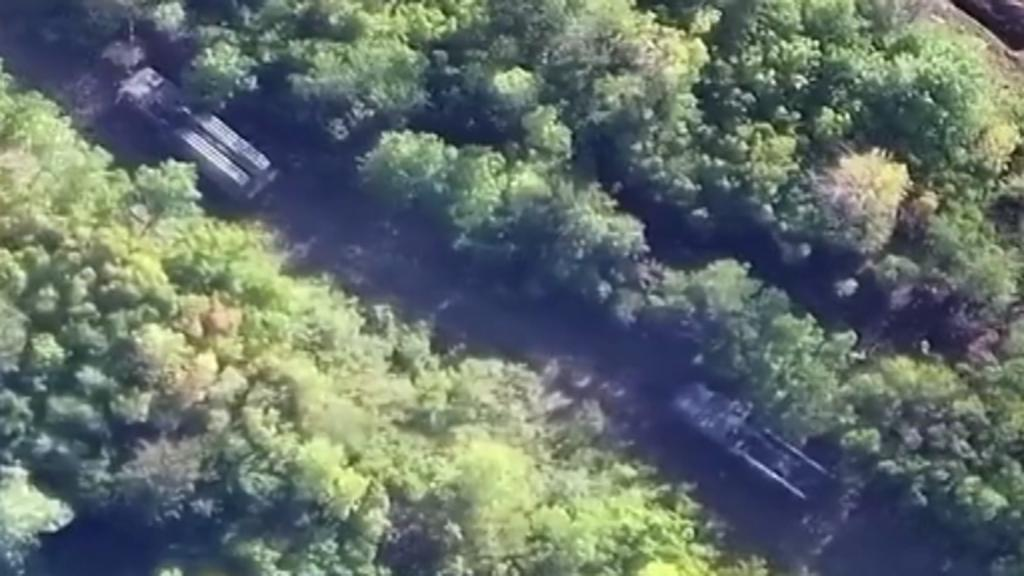MLRS: (106, 66, 282, 204)
TRUCK: (670, 379, 840, 510)
